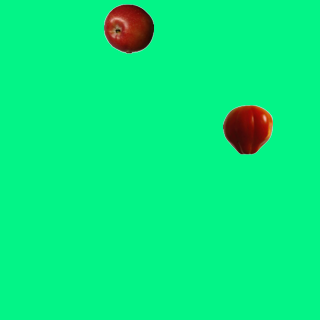Apple Braeburn: (103, 3, 153, 53)
Tomato 1: (222, 104, 272, 154)
